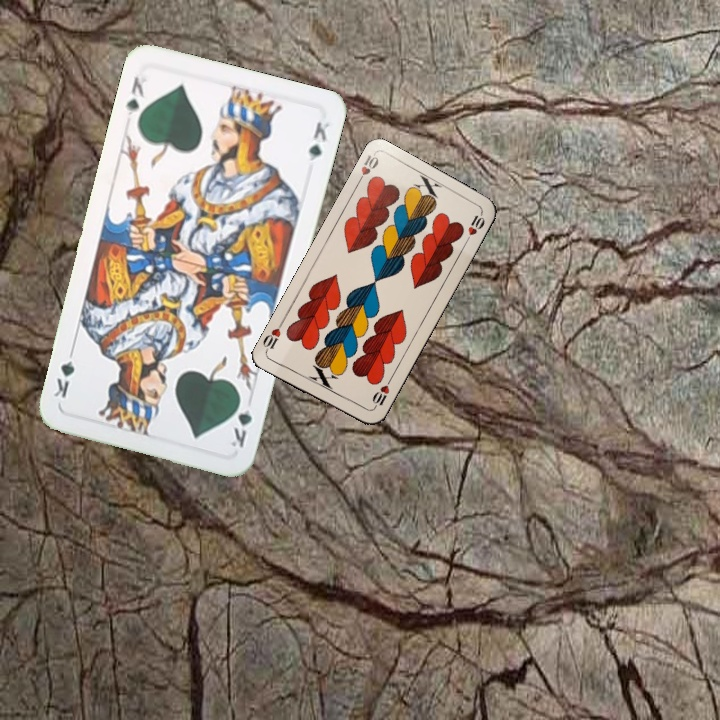GK: (227, 392, 256, 451), (122, 72, 150, 118)
H10: (352, 149, 381, 188), (368, 375, 394, 412)
